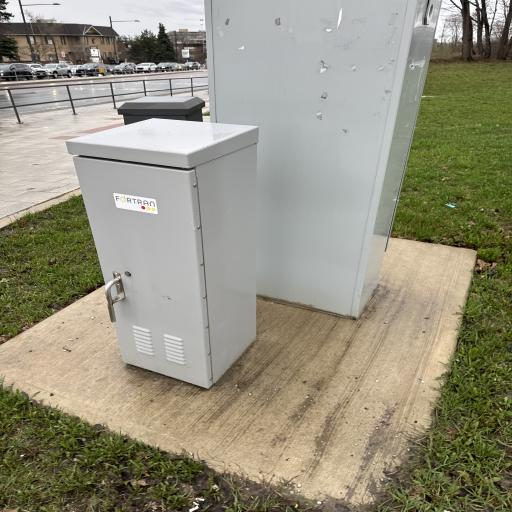Electrical Box: (203, 0, 440, 321), (66, 103, 266, 389)
